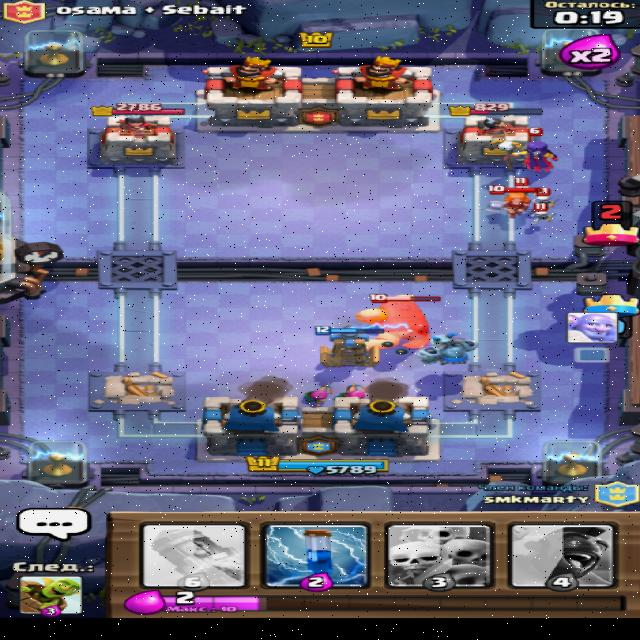Enemy-Giant: (352, 292, 442, 349)
Enemy-Skeleton: (527, 202, 556, 225), (528, 186, 552, 206), (512, 176, 528, 195)
Enemy-Valkyrie: (478, 184, 543, 218)
Enemy-Witch: (489, 127, 558, 174)
Player-Archer: (298, 381, 334, 407), (331, 382, 372, 399)
Player-MegaMinion: (415, 332, 478, 366)
Player-Tesla: (312, 325, 387, 368)
